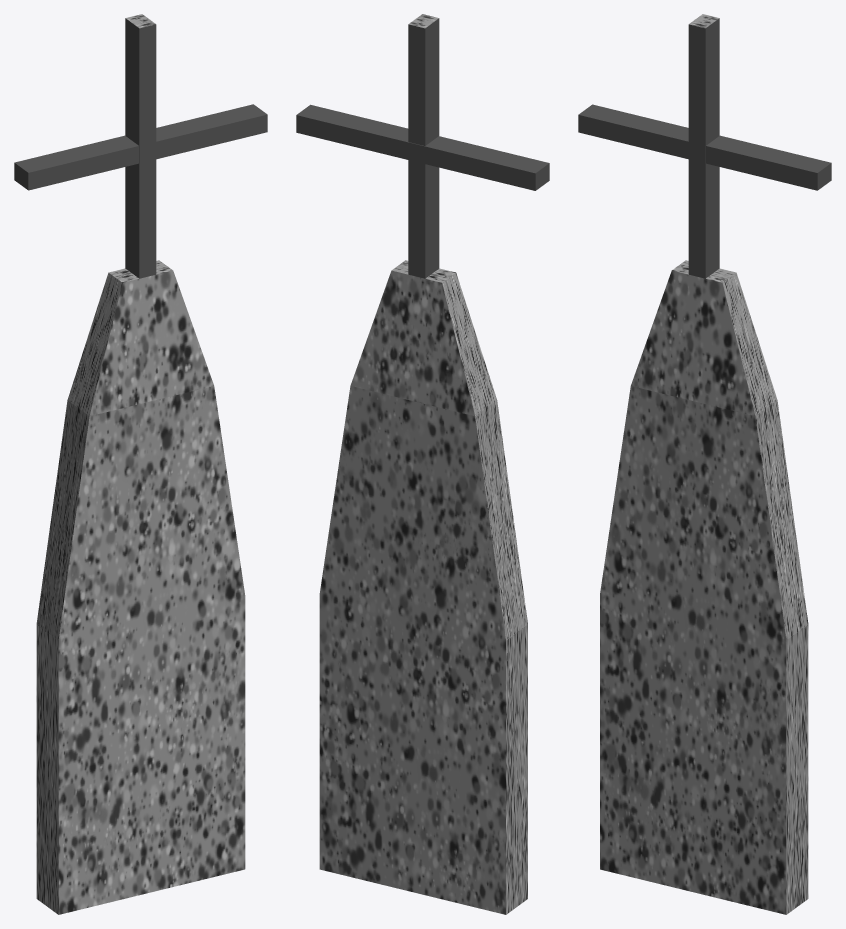
File: SM_CrossTomb_01.fbx
The picture shows the model from 3 angles, left to right: view 1: azimuth 30°, elevation 25°; view 2: azimuth 150°, elevation 25°; view 3: azimuth 330°, elevation 25°; orthographic projection.
Parts seen in each view (by area): view 1: Cube; view 2: Cube; view 3: Cube.
Part boxes in pixels (x1=…): Cube: x1=14, y1=14, x2=267, y2=914; Cube: x1=296, y1=14, x2=549, y2=914; Cube: x1=578, y1=14, x2=831, y2=914.
Size of the model in its own units: 0.3328 by 1.15 by 0.0531.
